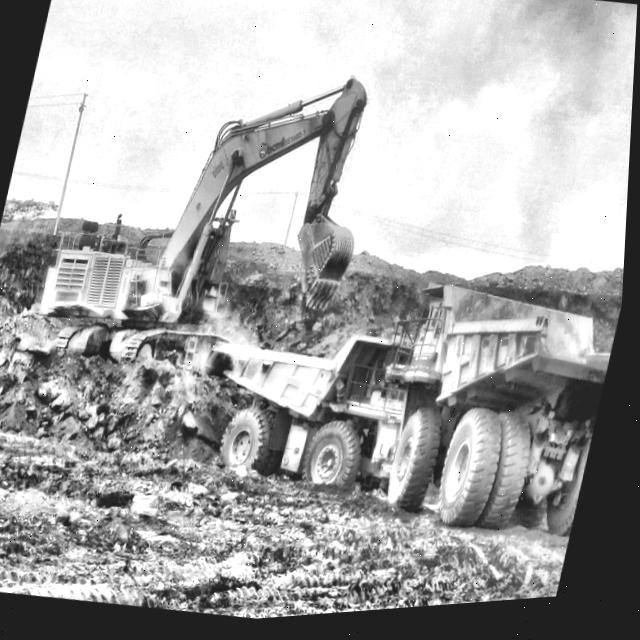dump_truck: (371, 270, 627, 567), (178, 291, 442, 533)
excavator: (11, 18, 416, 393)
